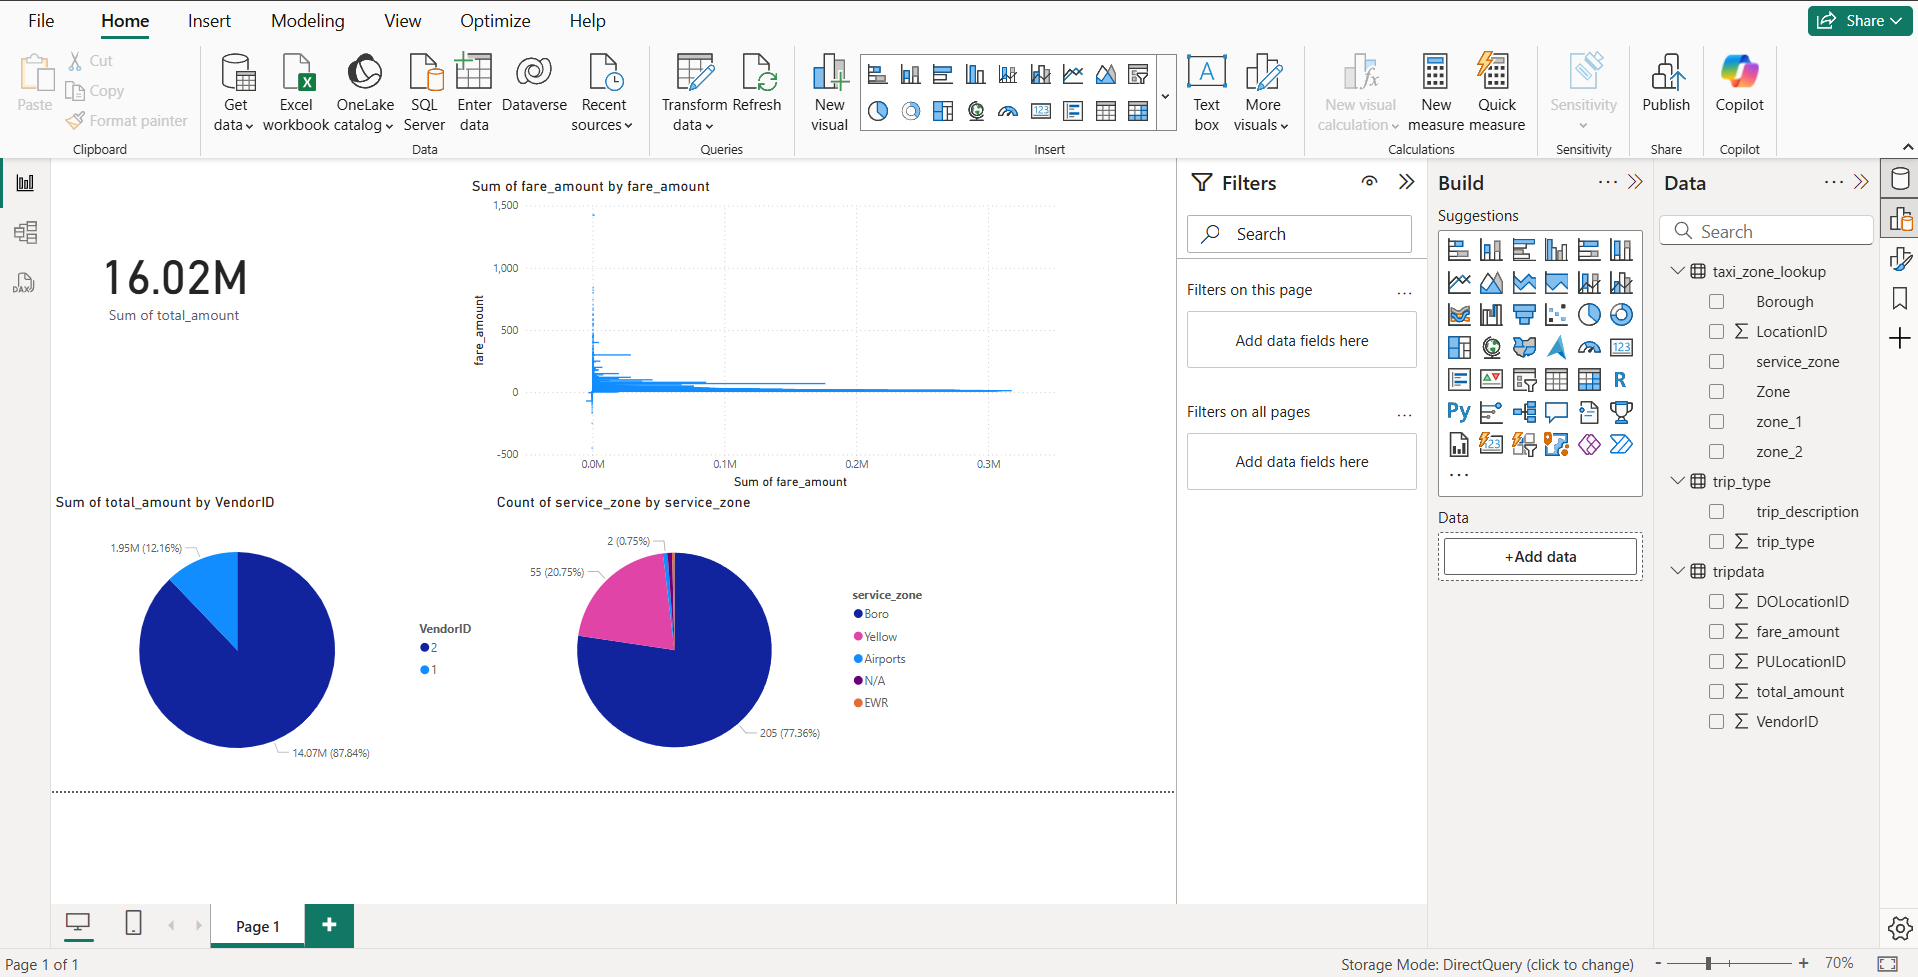

The dashboard page shown, as its layout file describes it:
{"tool":"powerbi","page":{"name":"Page 1","canvas":[1280,720],"ordinal":0},"visuals":[{"type":"card","fields":{"Values":["Sum(tripdata.total_amount)"]},"box":[0,0,280.2,280.2],"z":0},{"type":"pieChart","fields":{"Category":["taxi_zone_lookup.service_zone"],"Y":["CountNonNull(taxi_zone_lookup.service_zone)"]},"box":[502,381.2,512,338.5],"z":1},{"type":"pieChart","fields":{"Category":["tripdata.VendorID"],"Y":["Sum(tripdata.total_amount)"]},"box":[0,381.2,502,338.5],"z":2},{"type":"clusteredBarChart","fields":{"Category":["tripdata.fare_amount"],"Y":["Sum(tripdata.fare_amount)"]},"box":[473.6,21.3,686.9,359.8],"z":3}]}

Visuals, with their boxes on the page's 1280x720 design canvas (x1, y1, x2, y2). These are canvas units, not pixel positions in the 1918x977 screenshot, which may show the page scaled, cropped or inside an application window:
card - Sum(tripdata.total_amount): x1=0, y1=0, x2=280, y2=280
pieChart - taxi_zone_lookup.service_zone x CountNonNull(taxi_zone_lookup.service_zone): x1=502, y1=381, x2=1014, y2=720
pieChart - tripdata.VendorID x Sum(tripdata.total_amount): x1=0, y1=381, x2=502, y2=720
clusteredBarChart - tripdata.fare_amount x Sum(tripdata.fare_amount): x1=474, y1=21, x2=1160, y2=381
